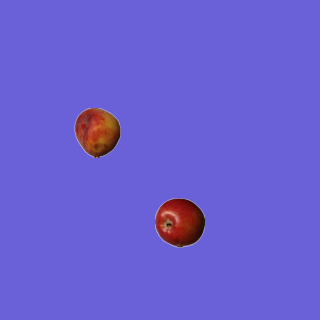Apple Braeburn: (154, 197, 204, 247)
Peach: (72, 107, 122, 157)
